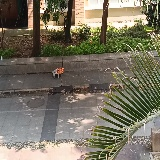fire: (56, 67, 64, 73)
